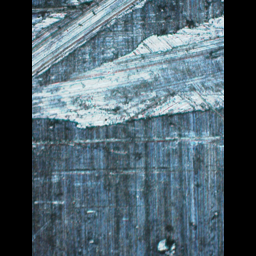d: (32, 0, 223, 134), (153, 225, 180, 255)
